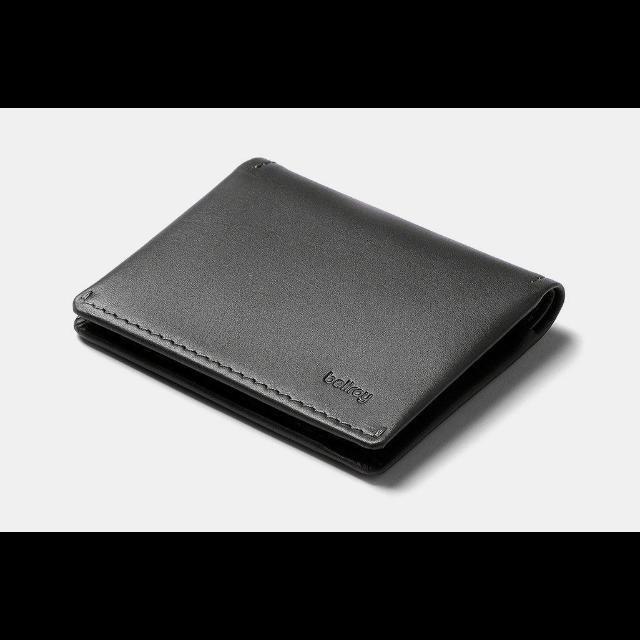wallet: (72, 153, 566, 477)
